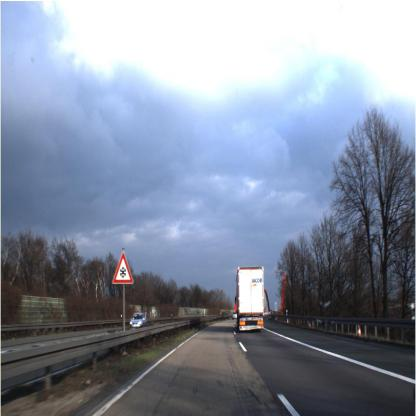danger: (110, 245, 135, 290)
